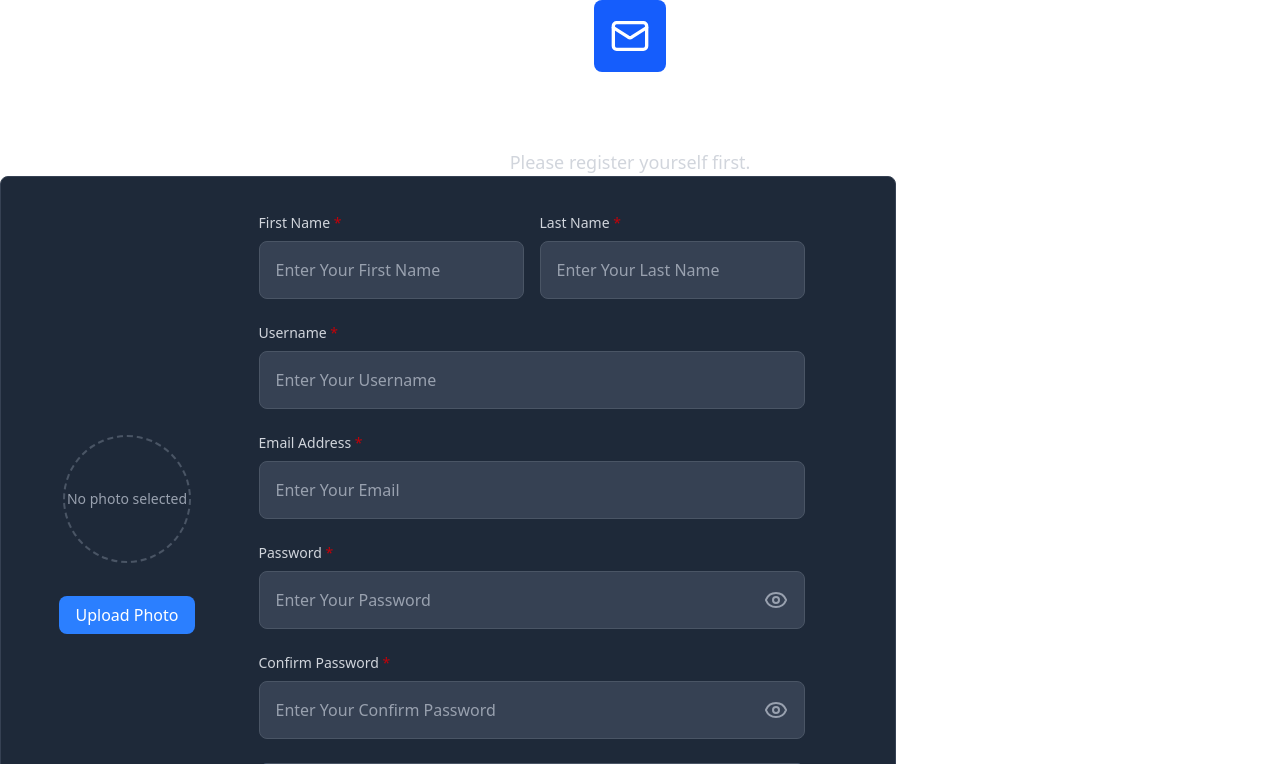
should show invalid email
Type "abc" into the field with placeholder "Enter Your Email". click: (532, 490)
box: [258, 461, 804, 519]
(page scrolled)
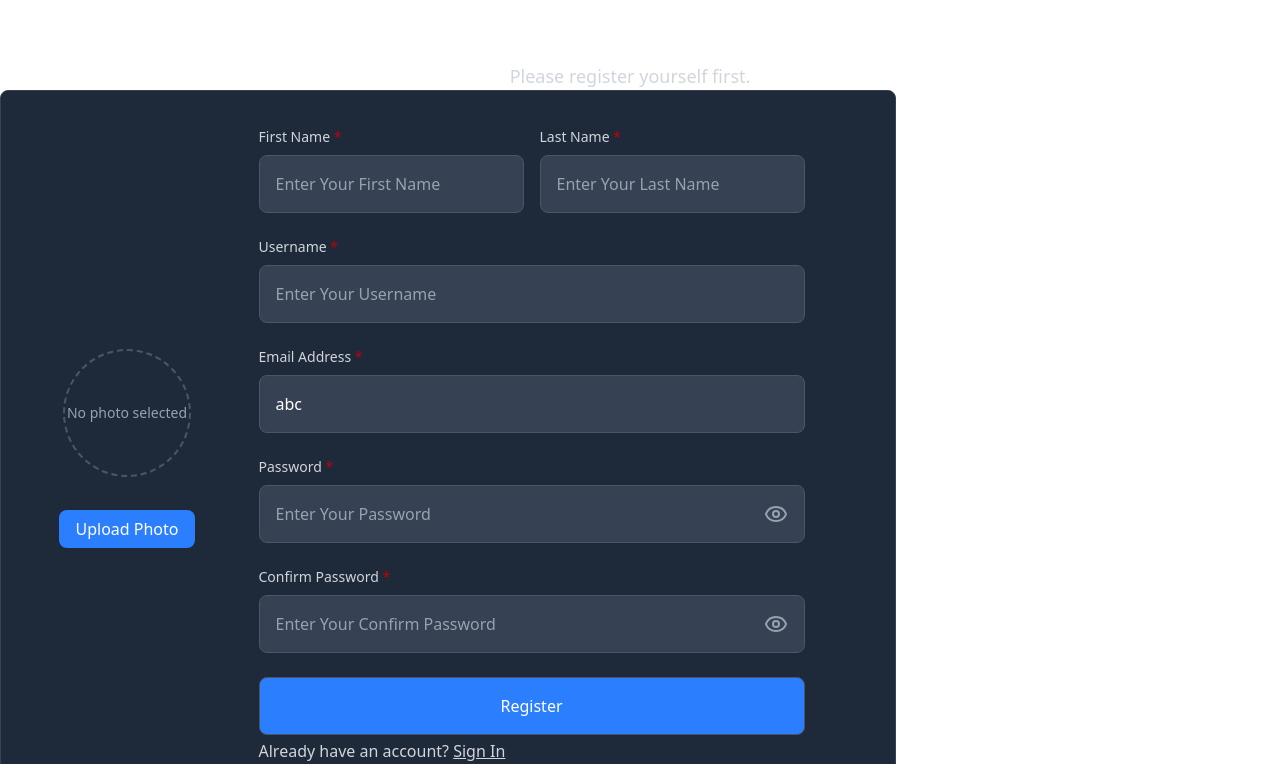
Click the button "Register". click: (532, 706)
box: [258, 677, 804, 735]
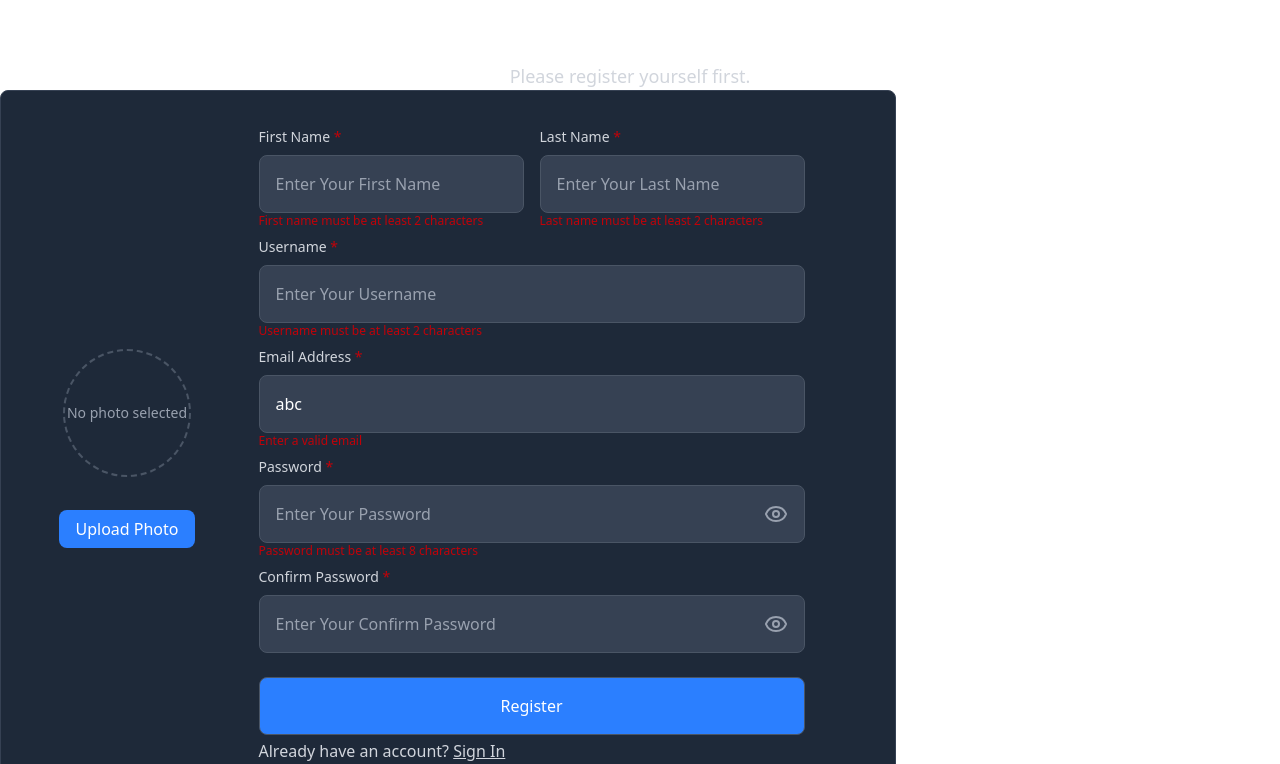
Expected: the text "Enter a valid email" is shown, [258, 433, 362, 449]
